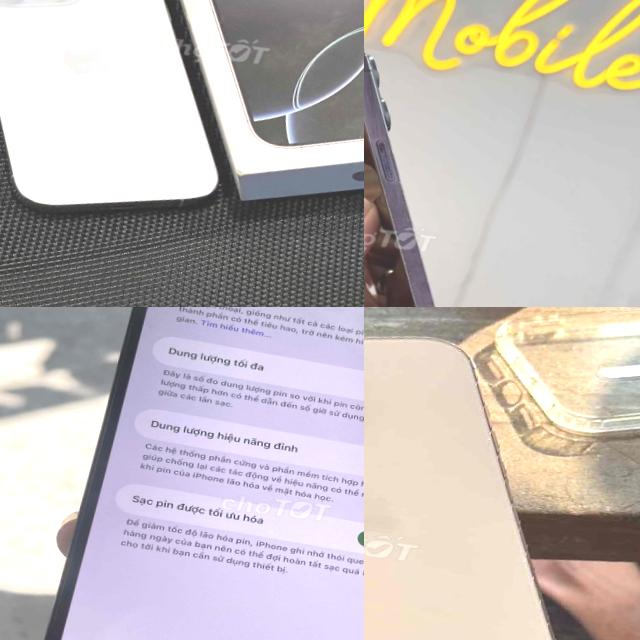gen_14: (16, 307, 364, 640), (364, 34, 511, 307)
gen_16: (364, 307, 606, 640), (0, 0, 249, 237)
